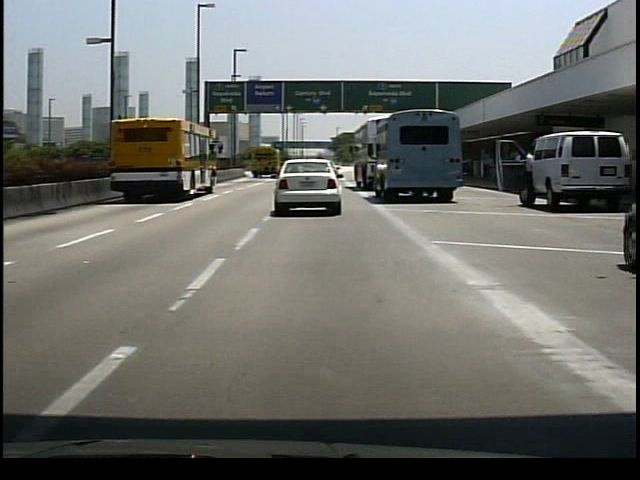person: (521, 138, 538, 215)
